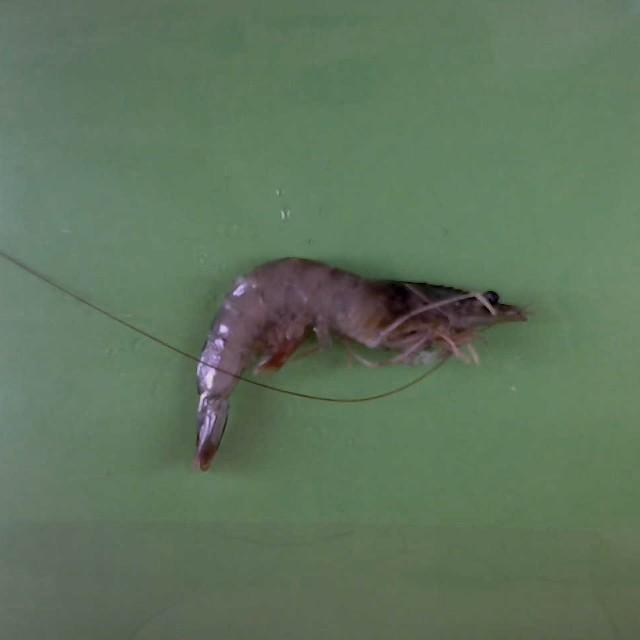shrimp: (194, 258, 528, 472)
